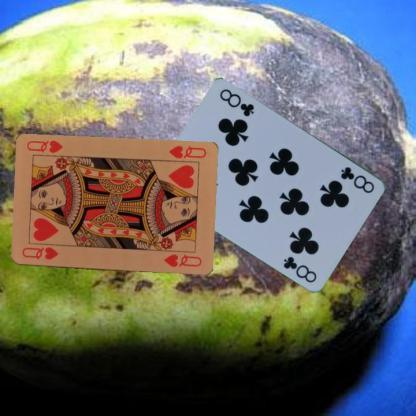8c: (338, 164, 376, 194)
Qh: (19, 244, 60, 262), (166, 143, 208, 160)
